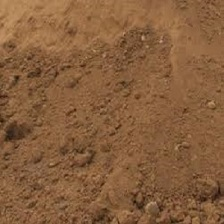sandy_soil: (13, 18, 210, 202)
